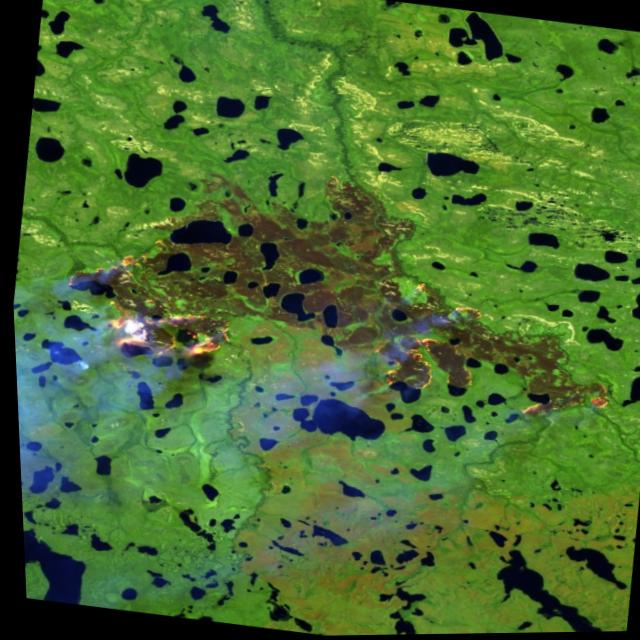fire: (368, 277, 632, 445), (55, 236, 254, 378)
